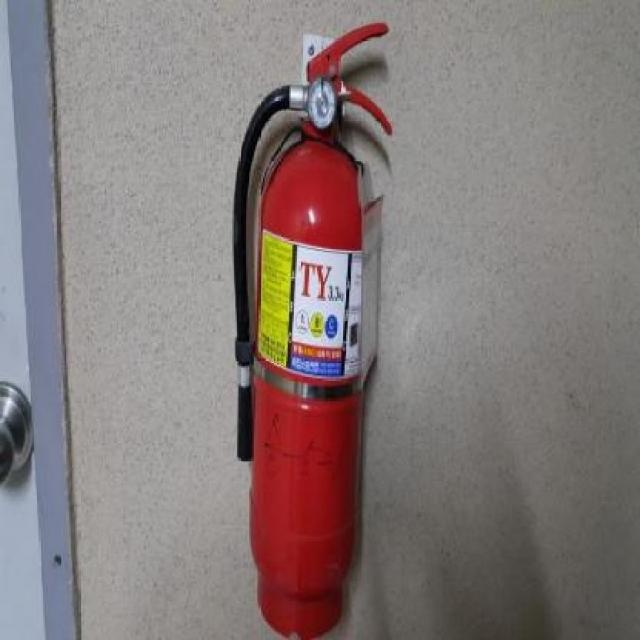fire extinguisher: (231, 21, 391, 640)
